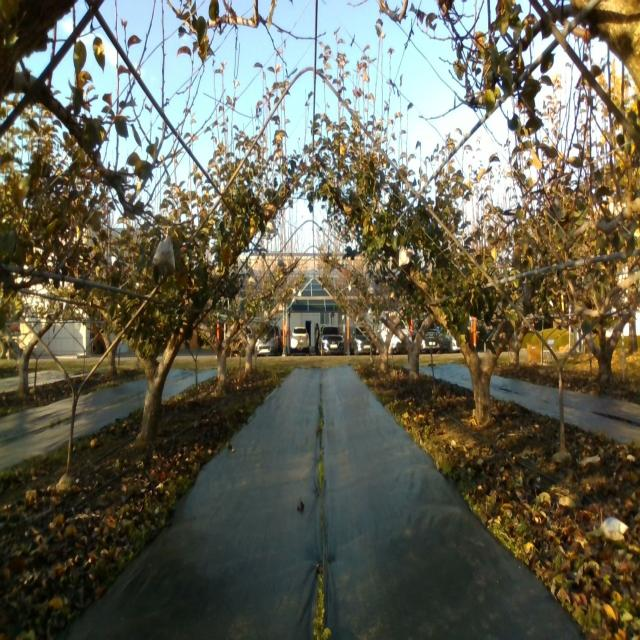pearbags: (153, 234, 175, 271), (398, 247, 410, 267)
